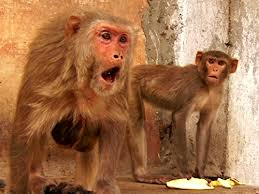monkey: (14, 4, 161, 175), (95, 39, 236, 171)
